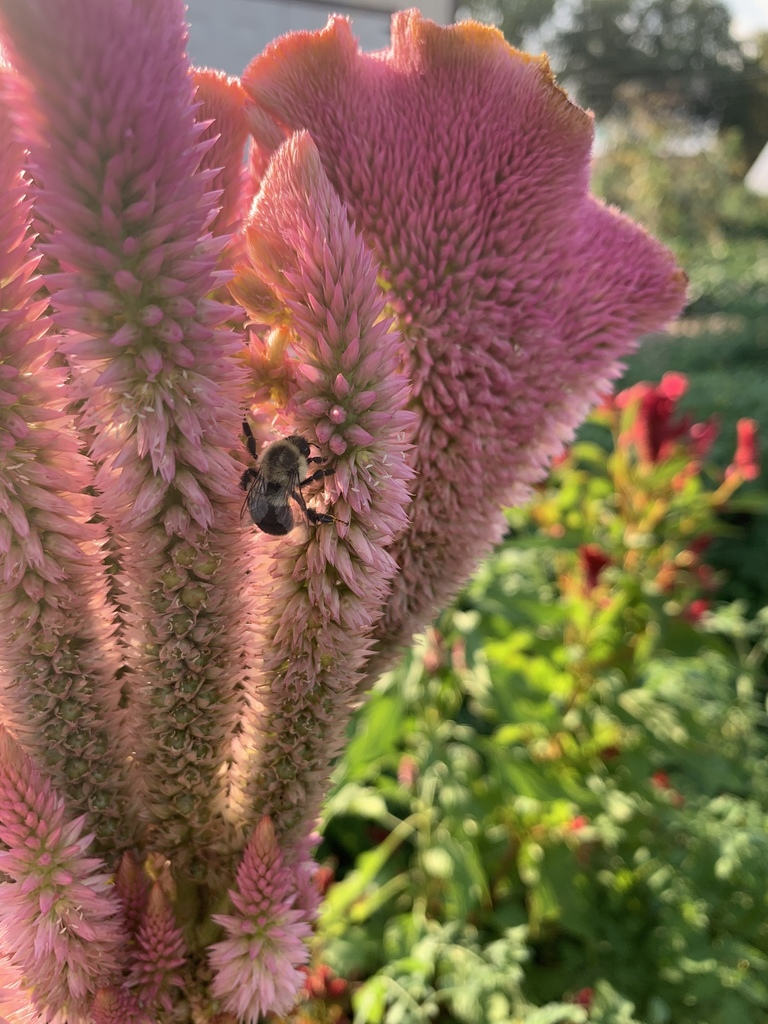bumblebee: (236, 413, 349, 536)
